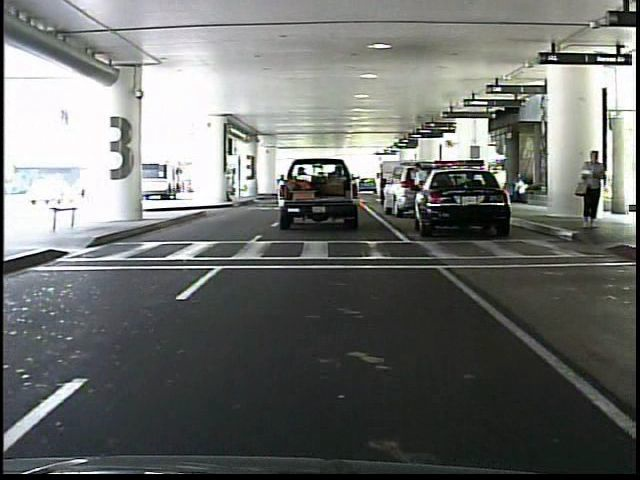person: (575, 147, 610, 234), (409, 160, 432, 221)
